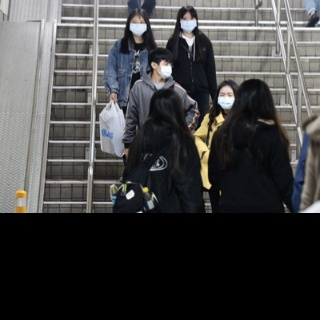with_mask: (217, 91, 236, 110), (128, 18, 148, 36), (180, 14, 197, 33), (157, 60, 172, 80)
